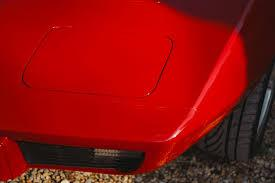dirt: (155, 109, 233, 168)
